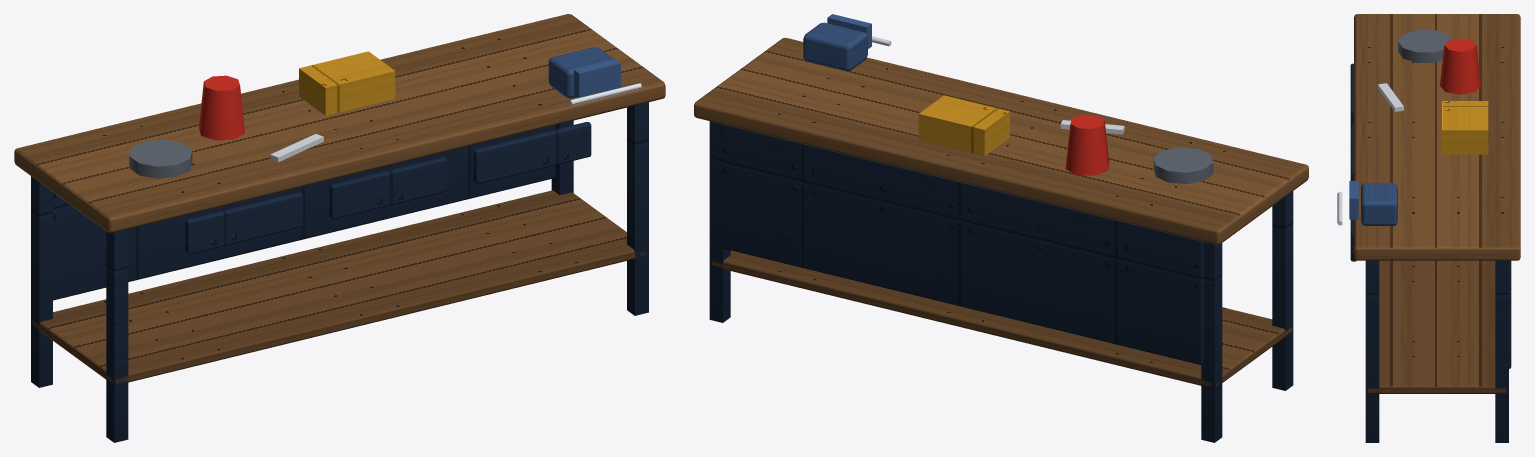
File: bancada.glb
The picture shows the model from 3 angles, left to right: view 1: azimuth 30°, elevation 25°; view 2: azimuth 150°, elevation 25°; view 3: azimuth 270°, elevation 25°; orthographic projection. The views are drawn at different scales.
Visible parts, largest first — view 1: bancada_madeira, bancada; view 2: bancada, bancada_madeira; view 3: bancada_madeira, bancada.
Boxes of the visible parts, x1,y1,x2,y2 form: bancada_madeira: [14, 14, 665, 383]; bancada: [31, 47, 648, 442]; bancada: [709, 14, 1293, 442]; bancada_madeira: [694, 37, 1308, 386]; bancada_madeira: [1354, 14, 1520, 393]; bancada: [1337, 30, 1511, 442].
Bounding box in the file's own units: 2.4 × 1.15 × 0.792.
3 materials, 2 textured.
